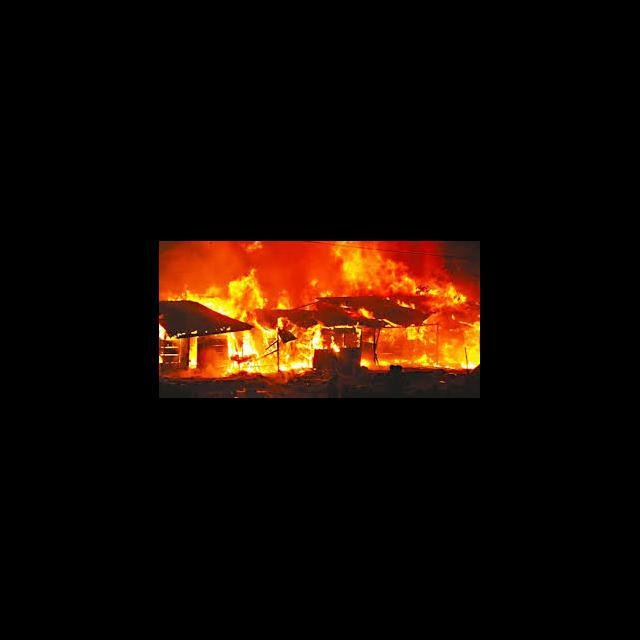Fire: (160, 242, 480, 378)
